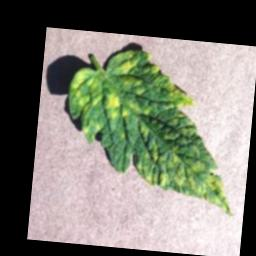Leaf_Mold: (130, 140, 240, 216), (141, 52, 201, 111), (66, 65, 106, 114), (116, 49, 145, 94), (104, 92, 134, 121)
